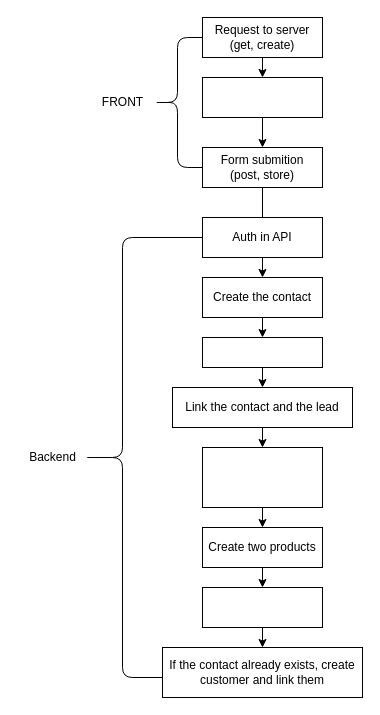
This 380x715 diagram has some shape labels left out. The centre of each missing label's shape, as x and y in pixels:
Assign an responsiable user (reandomly): the point at 262,477
Create the lead: the point at 262,352
Link the products to the lead: the point at 262,607
Server response (form): the point at 262,97
